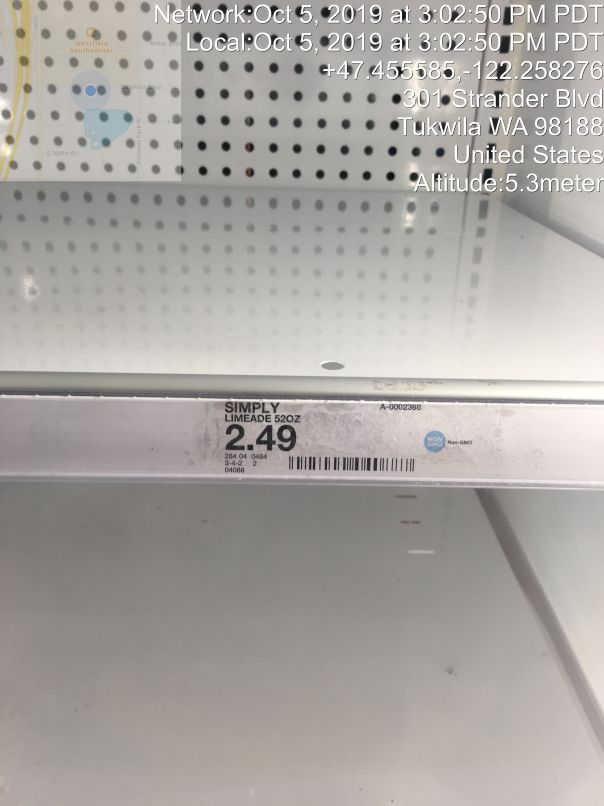Label: (211, 393, 467, 481)
Location: (392, 79, 604, 172)
Time: (144, 4, 604, 57)
Void: (30, 486, 525, 781), (10, 38, 550, 304)
